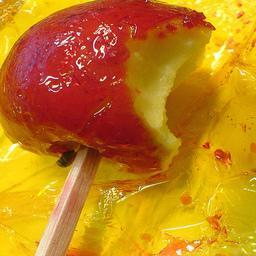apple: (1, 1, 217, 175)
